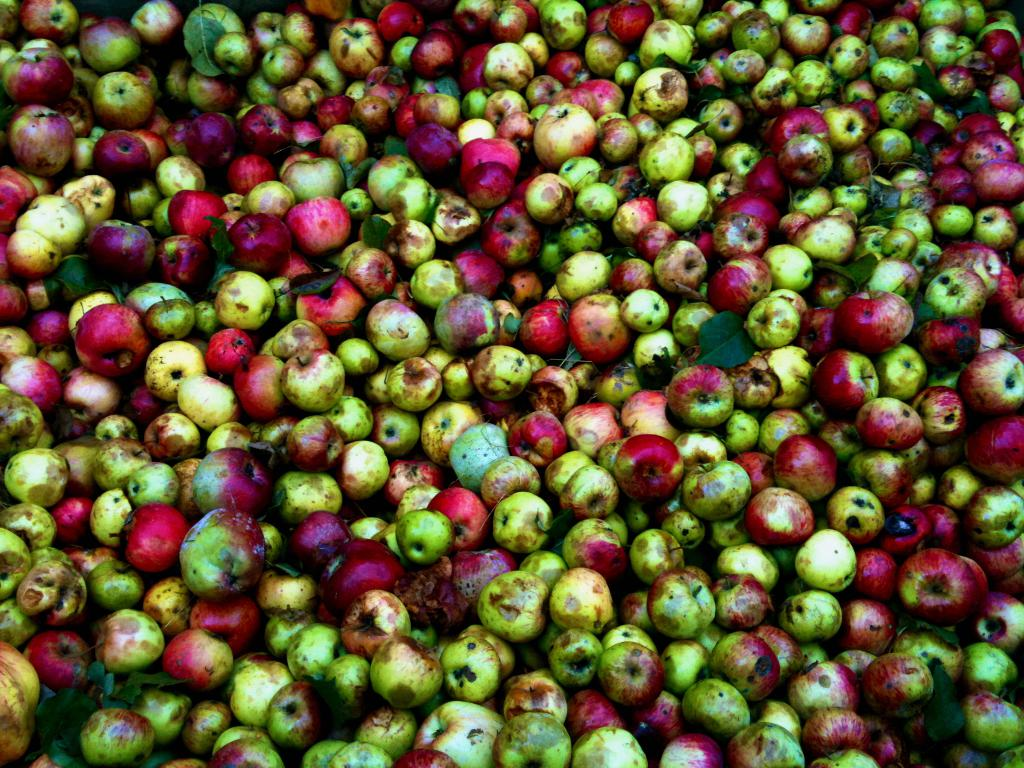Apple: (0, 0, 1023, 767), (288, 185, 359, 263), (597, 639, 666, 709)
